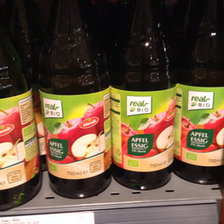vinegar: (38, 2, 113, 199), (111, 3, 179, 192), (173, 2, 222, 183), (1, 6, 40, 209)
